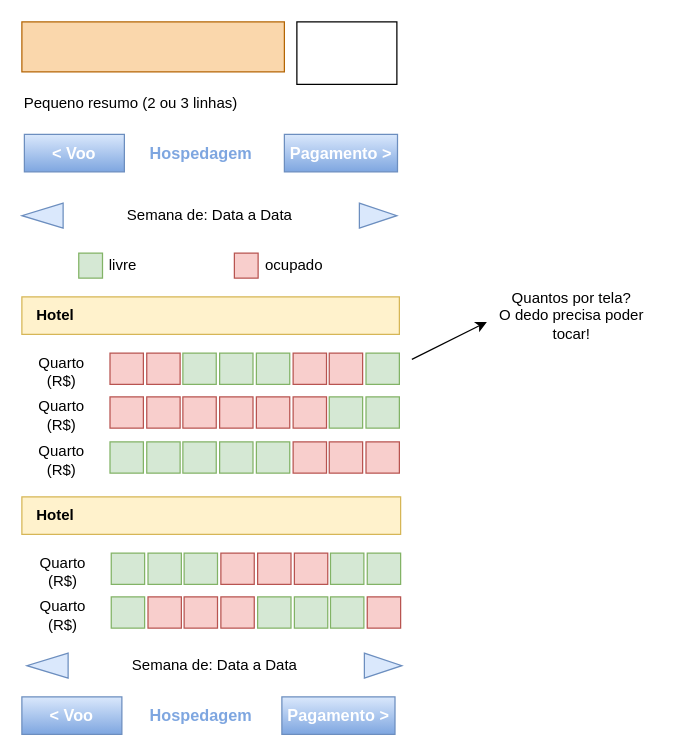
Image size: 681x756. Some labels were removed from this diagram. The centre of each missing label's shape, as x and y in pixels:
foto: the point at 346,52
Nome do destino: the point at 152,46
